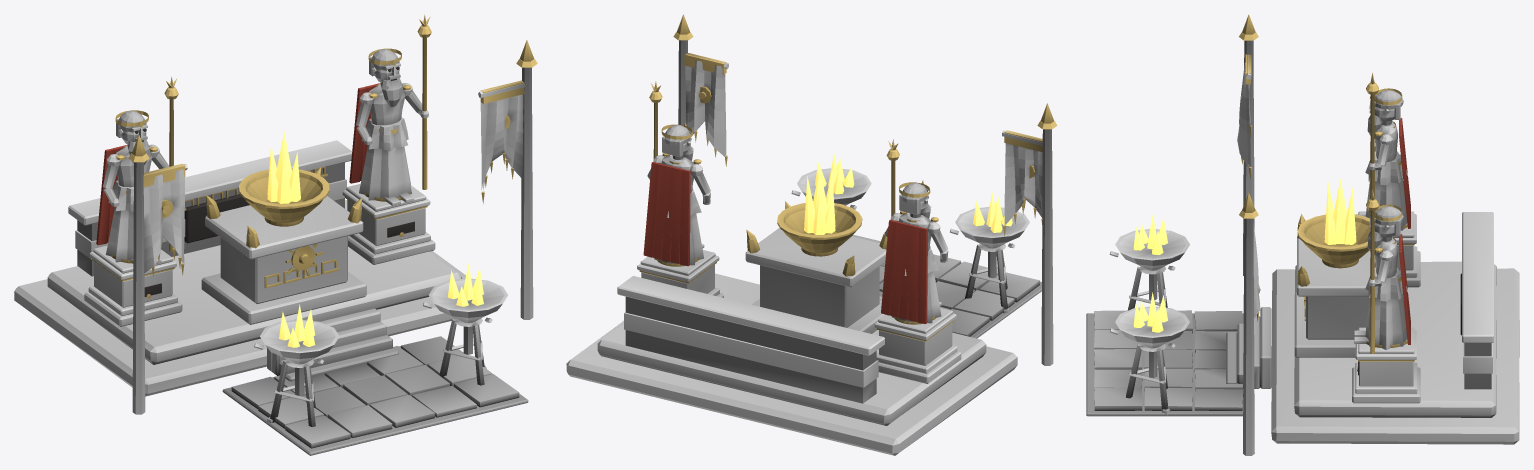
File: altar-of-kings-l1.glb
3 renders of one model, left to right at view 1: azimuth 30°, elevation 25°; view 2: azimuth 150°, elevation 25°; view 3: azimuth 270°, elevation 25°, orthographic. The views are drawn at different scales.
Parts seen in each view (by area): view 1: altar-of-kings-l1; view 2: altar-of-kings-l1; view 3: altar-of-kings-l1.
Boxes of the visible parts, box(x1,y1,x2,y2) form: altar-of-kings-l1: box(14, 14, 537, 455); altar-of-kings-l1: box(566, 14, 1057, 455); altar-of-kings-l1: box(1086, 14, 1519, 455).
Size of the model in its own units: 1.29 by 0.856 by 1.28.
